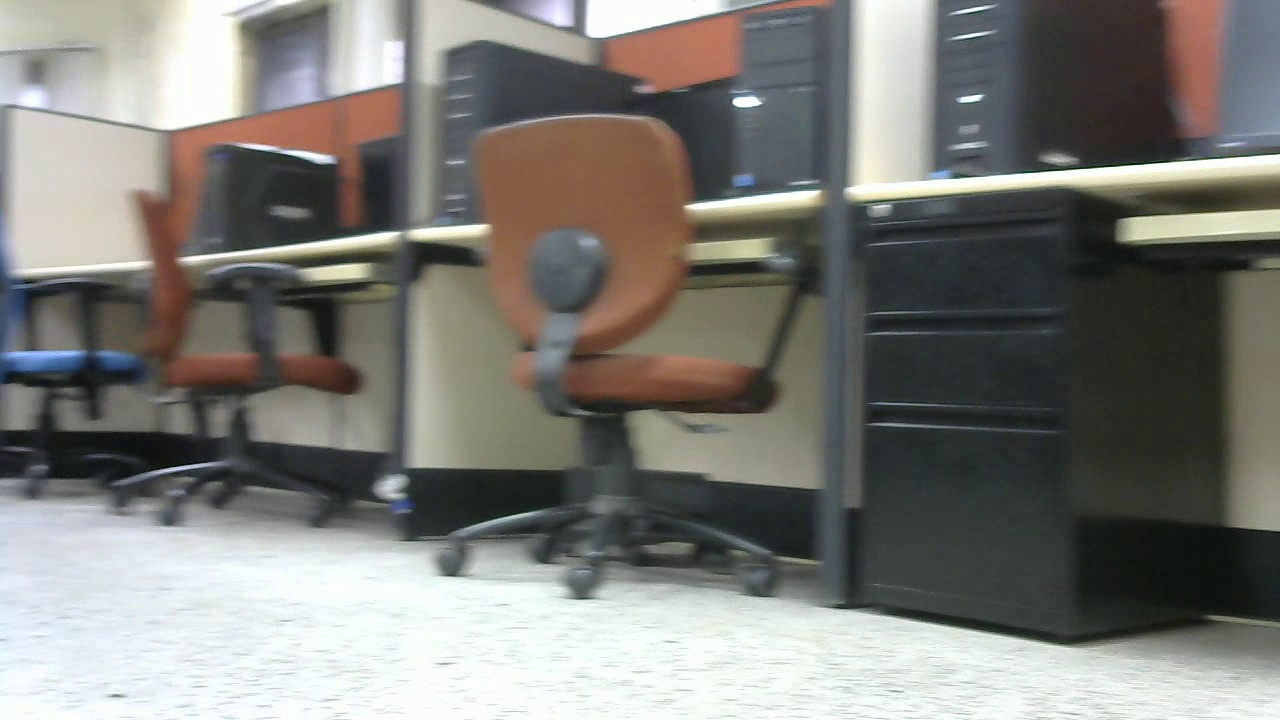chair: (432, 114, 819, 598), (118, 182, 385, 540)
